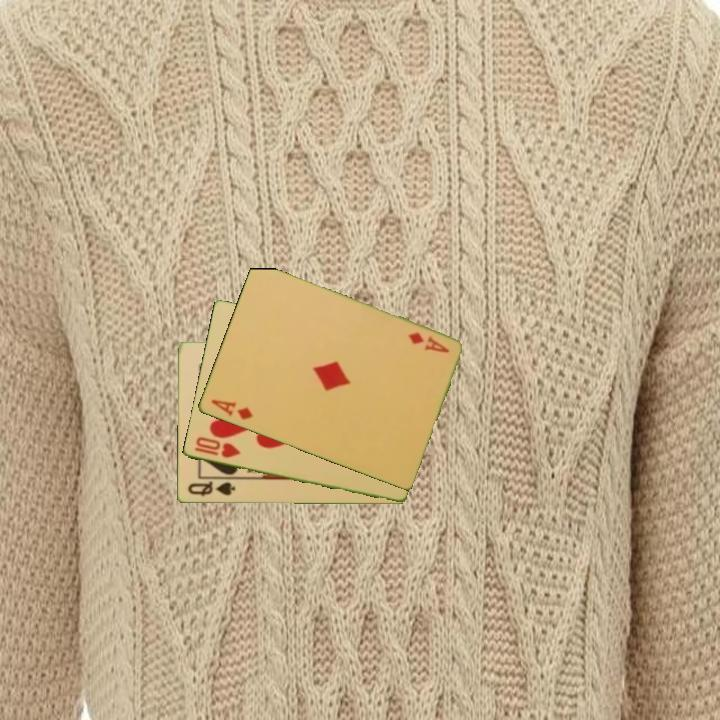10h: (190, 433, 243, 461)
Ad: (207, 396, 255, 423), (404, 329, 452, 356)
Qs: (184, 478, 237, 499)
